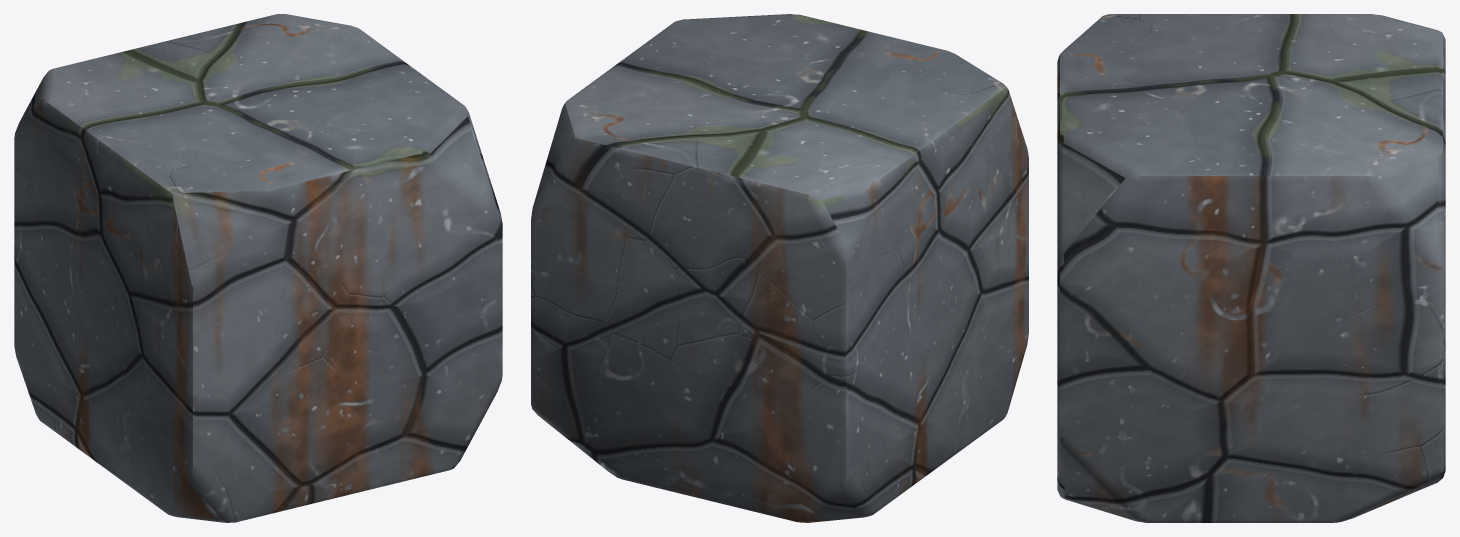
The model's file is rock_metal_medium_a.glb.
3 views of the same model, side by side, from view 1: azimuth 30°, elevation 25°; view 2: azimuth 150°, elevation 25°; view 3: azimuth 270°, elevation 25° (orthographic). The views are drawn at different scales.
Parts seen in each view (by area): view 1: RockMetal_medium_a; view 2: RockMetal_medium_a; view 3: RockMetal_medium_a.
Part boxes in pixels (left/top/right/bottom): RockMetal_medium_a: left=14, top=14, right=502, bottom=522; RockMetal_medium_a: left=531, top=14, right=1028, bottom=522; RockMetal_medium_a: left=1057, top=14, right=1445, bottom=522.
Bounding box in the file's own units: 1 × 1 × 1.
1 material, 1 textured.
